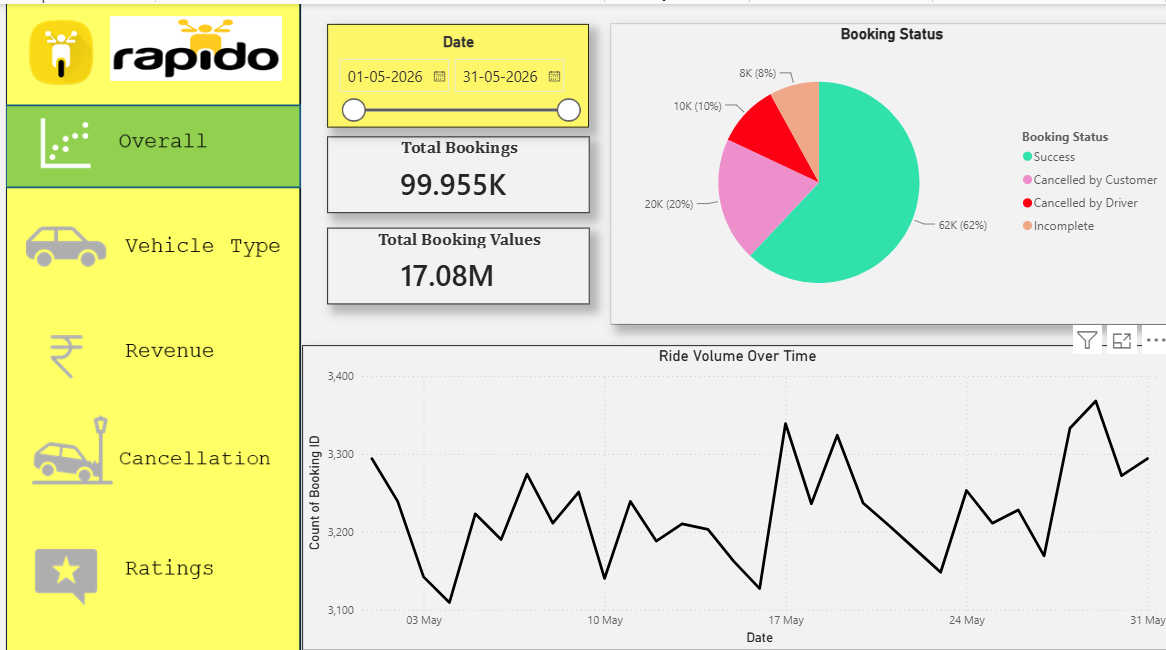

Layout of this report page (visuals, bound fields, positions):
{"tool":"powerbi","page":{"name":"Overall","canvas":[1280,720],"ordinal":0},"visuals":[{"type":"actionButton","box":[0,216,325.7,90.5],"z":0},{"type":"actionButton","box":[0,329.4,325.7,90.5],"z":1000},{"type":"actionButton","box":[0,453.6,325.7,90.5],"z":2000},{"type":"actionButton","box":[0,576.7,325.7,90.5],"z":3000},{"type":"actionButton","box":[0,109.8,325.7,90.5],"z":4000},{"type":"lineChart","title":"Ride Volume Over Time","fields":{"Category":["Ride Data.Date"],"Y":["CountNonNull(Ride Data.Booking ID)"]},"box":[325.7,375.2,954.3,335.4],"z":5000},{"type":"pieChart","title":"Booking Status ","fields":{"Category":["Ride Data.Booking Status"],"Y":["CountNonNull(Ride Data.Booking ID)"]},"box":[664.7,21.7,615.3,329.4],"z":6000},{"type":"slicer","title":"Date","fields":{"Values":["Ride Data.Date"]},"box":[352.3,21.7,287.1,113.4],"z":7000},{"type":"cardVisual","title":"Total Bookings","fields":{"Data":["Count(Ride Data.Booking ID)"]},"box":[352.7,145.5,288.2,83.7],"z":8000},{"type":"cardVisual","title":"Total Booking Values","fields":{"Data":["Sum(Ride Data.Booking Value)"]},"box":[352.7,245.6,288.2,83.7],"z":9000},{"type":"actionButton","box":[112.6,11.4,196.7,78.4],"z":10000}]}

Visuals, with their boxes in screenshot pixels (x1, y1, x2, y2), scaled from the page's 1280x720 canvas onto the 1166x650 screenshot:
actionButton: (left=0, top=195, right=297, bottom=277)
actionButton: (left=0, top=297, right=297, bottom=379)
actionButton: (left=0, top=410, right=297, bottom=491)
actionButton: (left=0, top=521, right=297, bottom=602)
actionButton: (left=0, top=99, right=297, bottom=181)
"Ride Volume Over Time" lineChart: (left=297, top=339, right=1165, bottom=642)
"Booking Status " pieChart: (left=606, top=20, right=1165, bottom=317)
"Date" slicer: (left=321, top=20, right=582, bottom=122)
"Total Bookings" cardVisual: (left=321, top=131, right=584, bottom=207)
"Total Booking Values" cardVisual: (left=321, top=222, right=584, bottom=297)
actionButton: (left=103, top=10, right=282, bottom=81)
